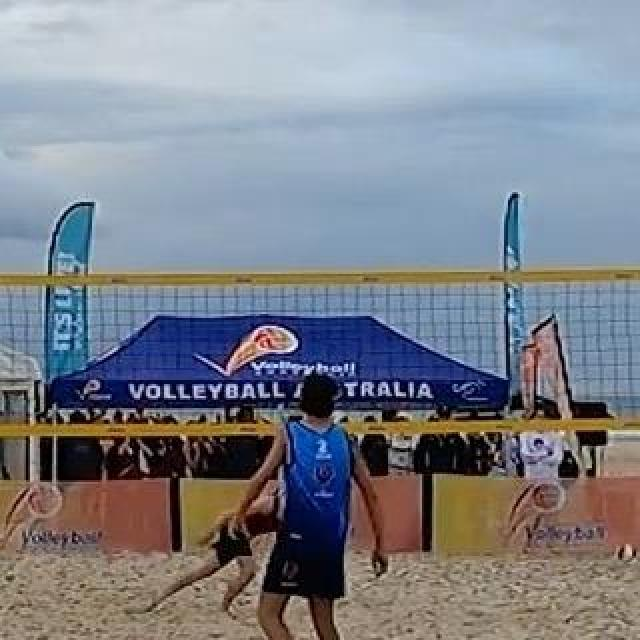volleyball: (617, 545, 635, 563)
